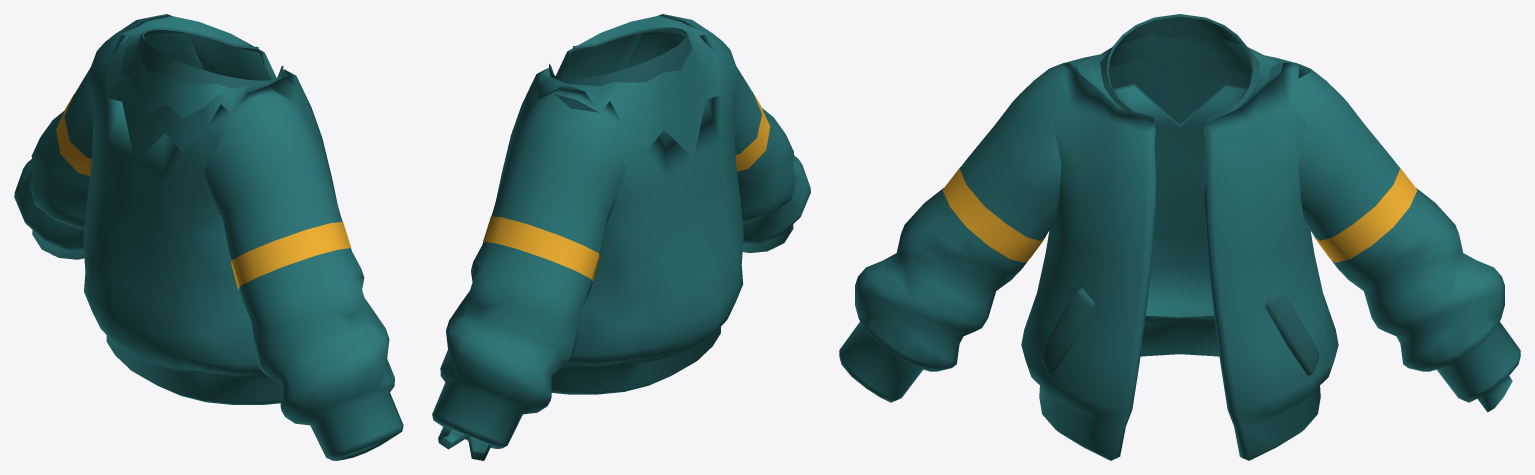
Rendered from CIVRUM_01_Jacket.glb.
3 renders of one model, left to right at view 1: azimuth 30°, elevation 25°; view 2: azimuth 150°, elevation 25°; view 3: azimuth 270°, elevation 25°, orthographic. The views are drawn at different scales.
Parts seen in each view (by area): view 1: Citizen01_Jacket; view 2: Citizen01_Jacket; view 3: Citizen01_Jacket.
Part boxes in pixels (x1,y1,x2,y2): Citizen01_Jacket: (14,14,403,460); Citizen01_Jacket: (432,14,810,460); Citizen01_Jacket: (839,14,1520,460).
Size of the model in its own units: 0.1826 by 0.2717 by 0.4644.
